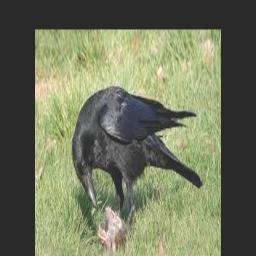Crow: (73, 86, 202, 227)
